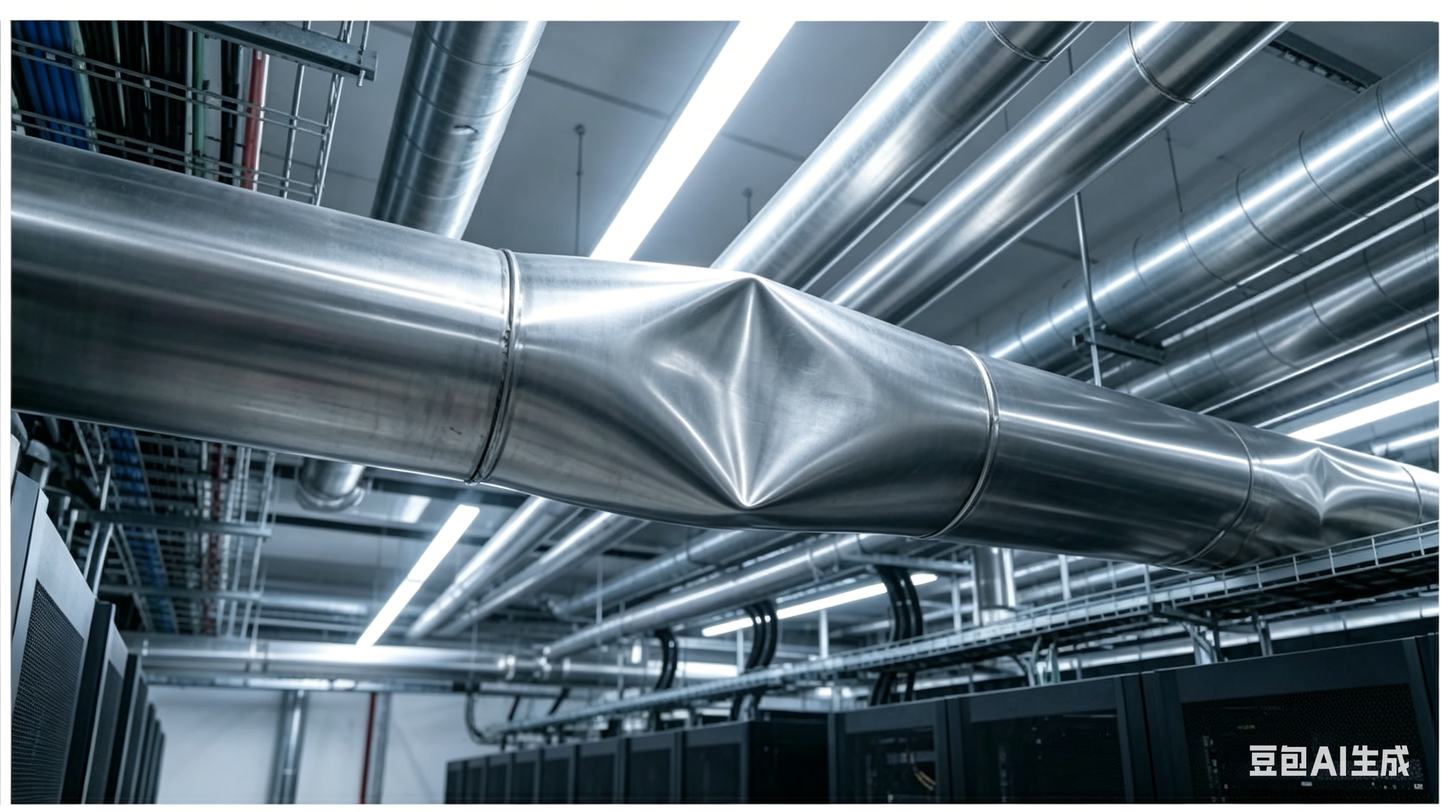Leakage: (580, 251, 908, 537), (1247, 438, 1407, 531)
